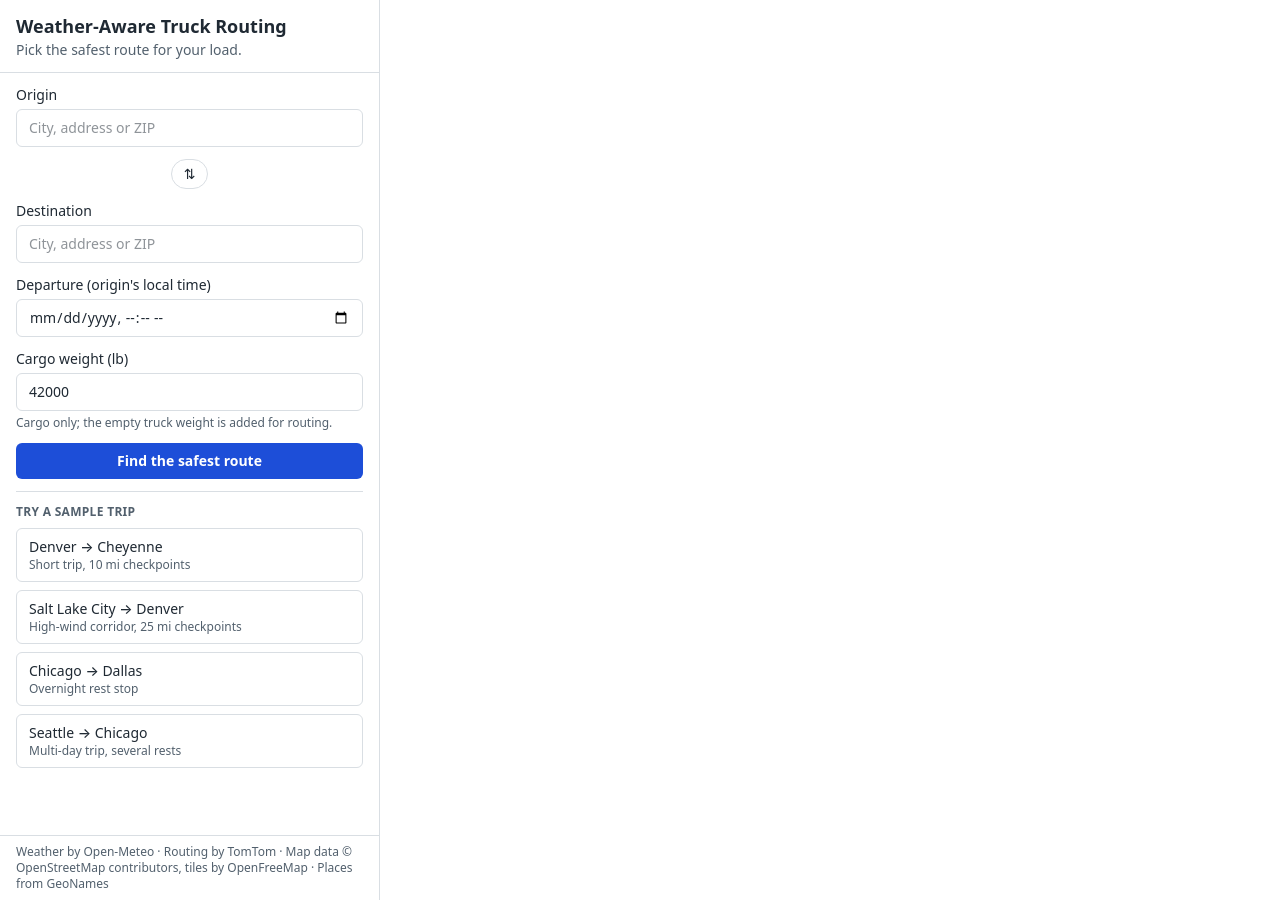
App › folds the form into a summary after a search and keeps the values when reopened
Click the button "Denver → Cheyenne Short trip, 10 mi checkpoints" at [190, 555], box left=16, top=528, right=363, bottom=582
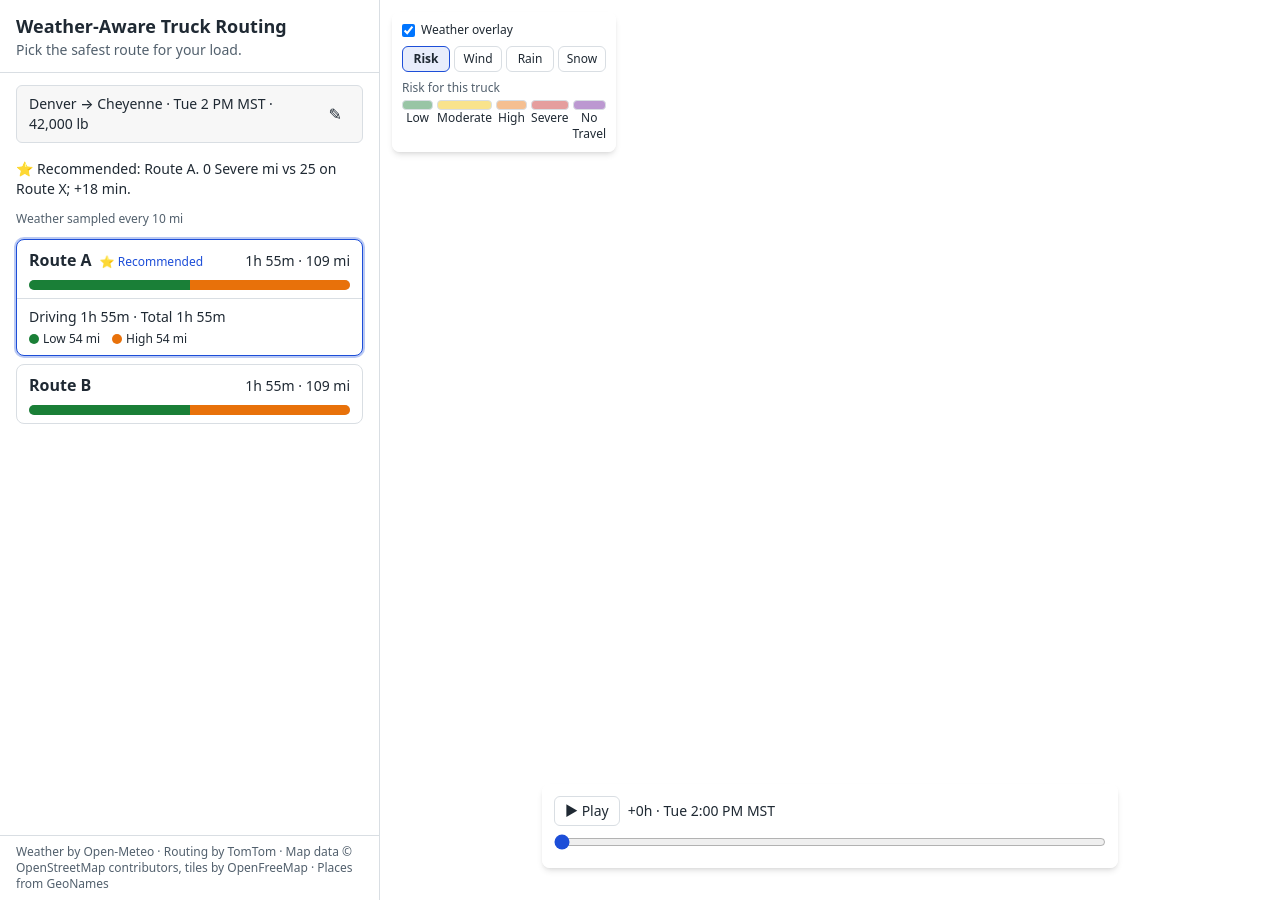
Check: the text "Denver → Cheyenne · Tue 2 PM MST · 42,000 lb" is shown, box left=29, top=94, right=313, bottom=134
Click the button named "Edit trip" at [335, 114], box left=321, top=98, right=350, bottom=130
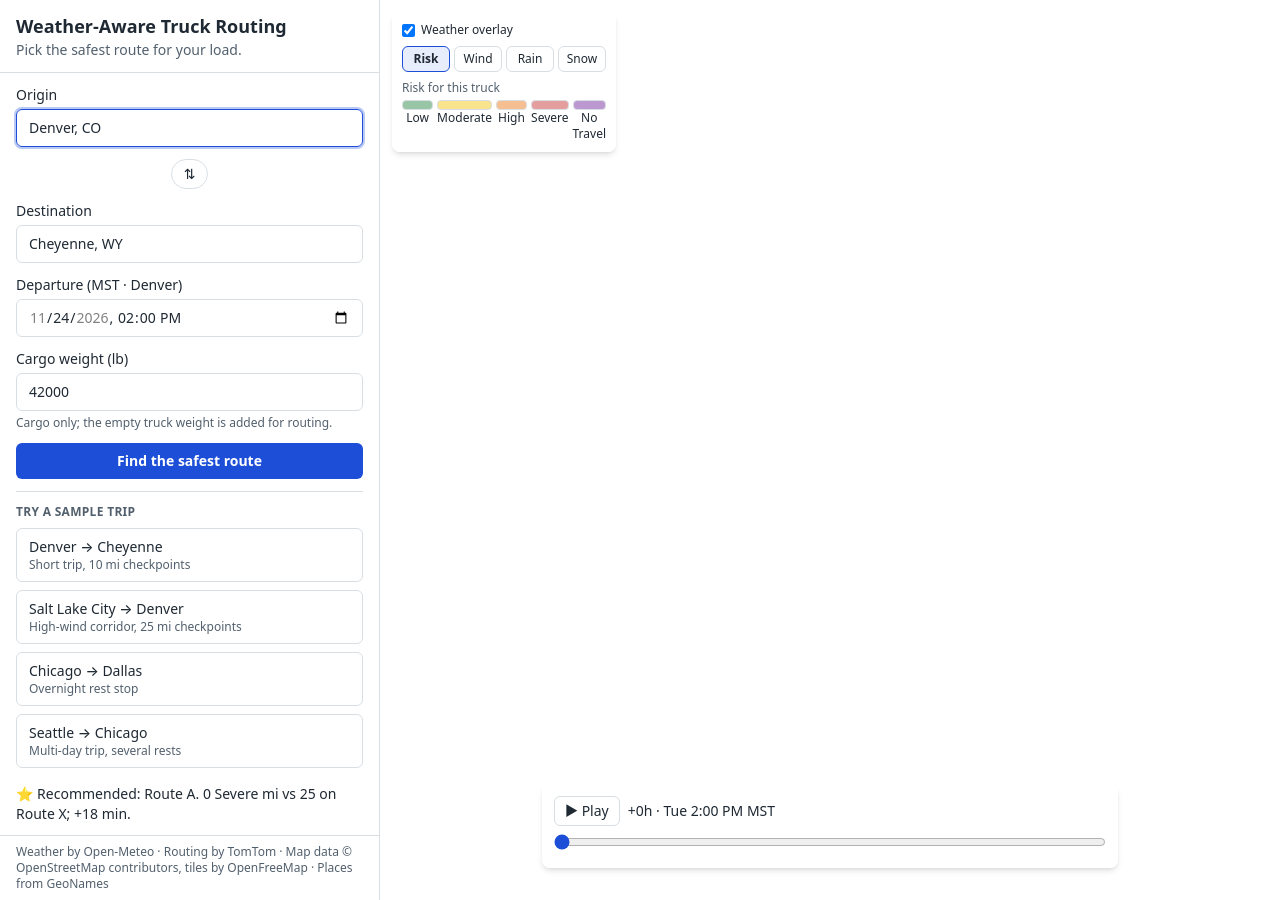
Check: the form named "Plan a trip" is shown, box left=16, top=85, right=363, bottom=768
Check: the dropdown labelled "Origin" holds "Denver, CO", box left=16, top=109, right=363, bottom=147
Check: the dropdown labelled "Destination" holds "Cheyenne, WY", box left=16, top=225, right=363, bottom=263
